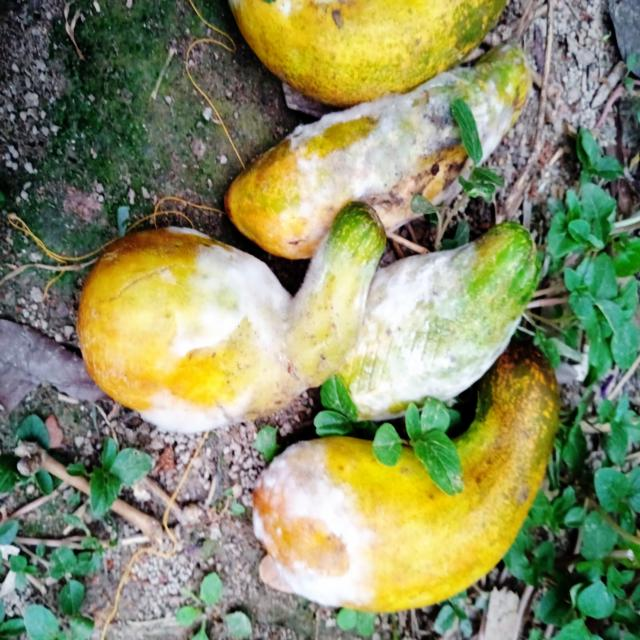Pythium-Fruit-Rot: (140, 224, 331, 432), (292, 66, 514, 244), (339, 248, 525, 418), (252, 434, 382, 604)
